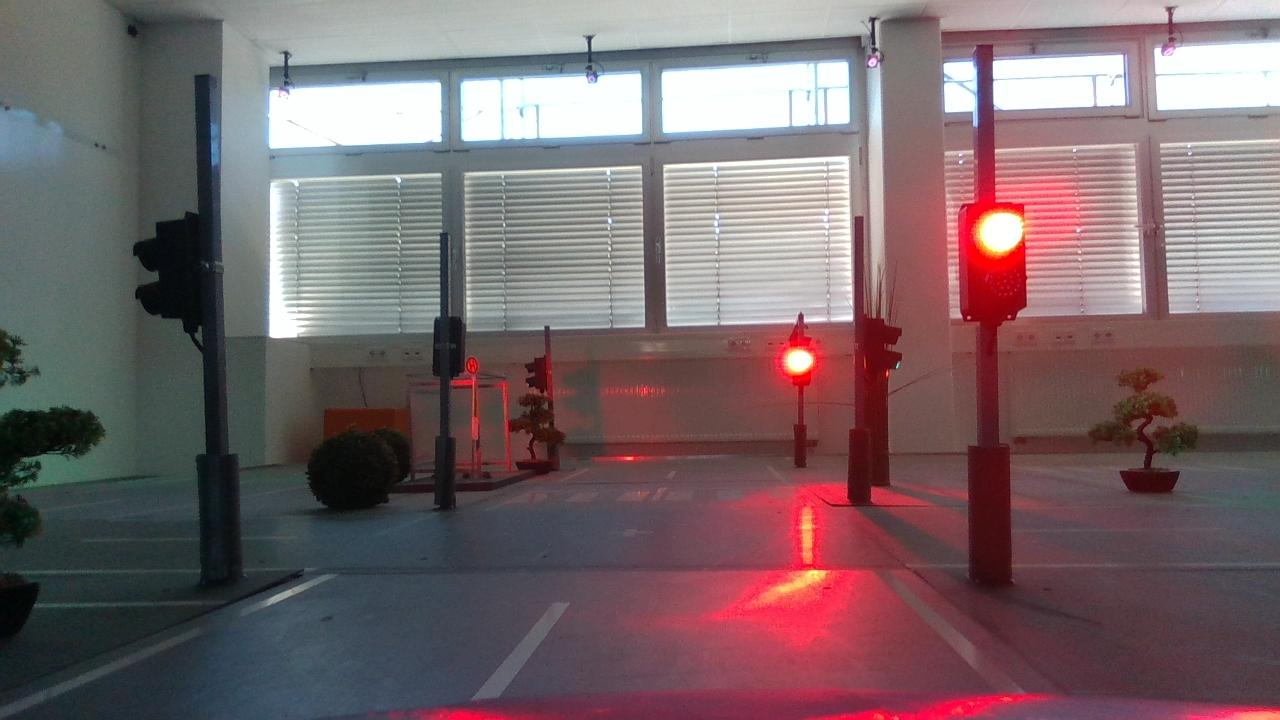traffic_light_red: (946, 188, 1037, 343)
